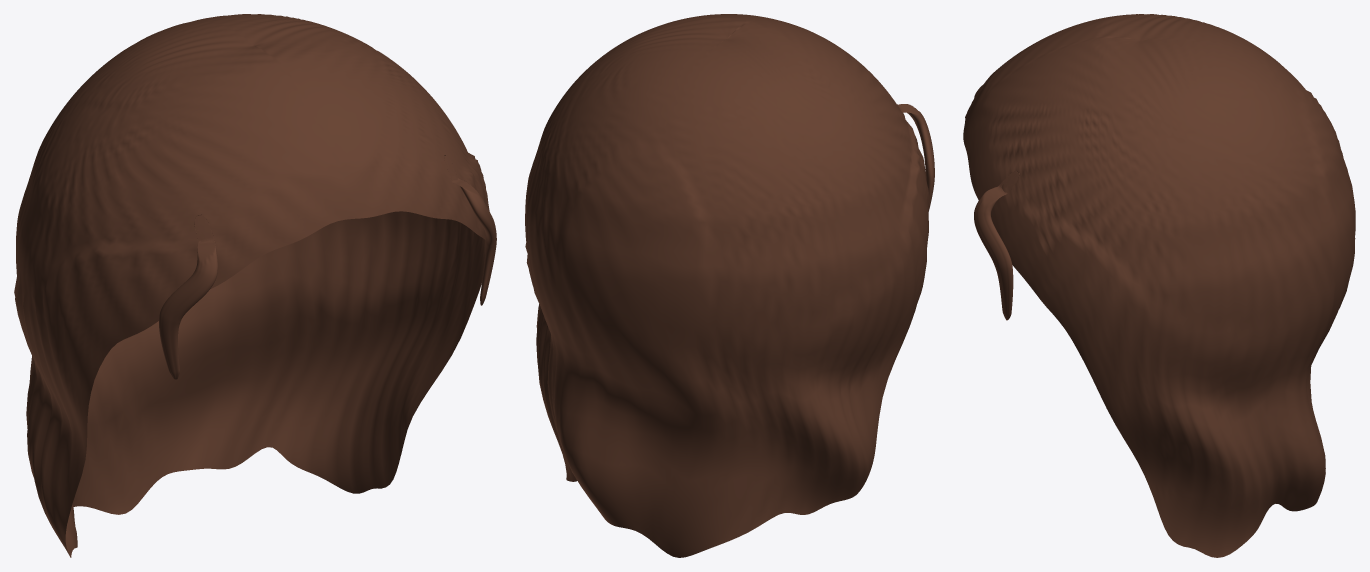
File: space-buns-cap.glb
3 renders of one model, left to right at view 1: azimuth 30°, elevation 25°; view 2: azimuth 150°, elevation 25°; view 3: azimuth 270°, elevation 25°, orthographic. The views are drawn at different scales.
Visible parts, largest first — view 1: 226 hair / Hair / chestnut226.002; view 2: 226 hair / Hair / chestnut226.002; view 3: 226 hair / Hair / chestnut226.002.
Boxes of the visible parts, x1,y1,x2,y2 form: 226 hair / Hair / chestnut226.002: (14, 14, 496, 557); 226 hair / Hair / chestnut226.002: (525, 14, 934, 557); 226 hair / Hair / chestnut226.002: (963, 14, 1355, 557).
Bounding box in the file's own units: 0.8048 × 0.9707 × 0.7316.
